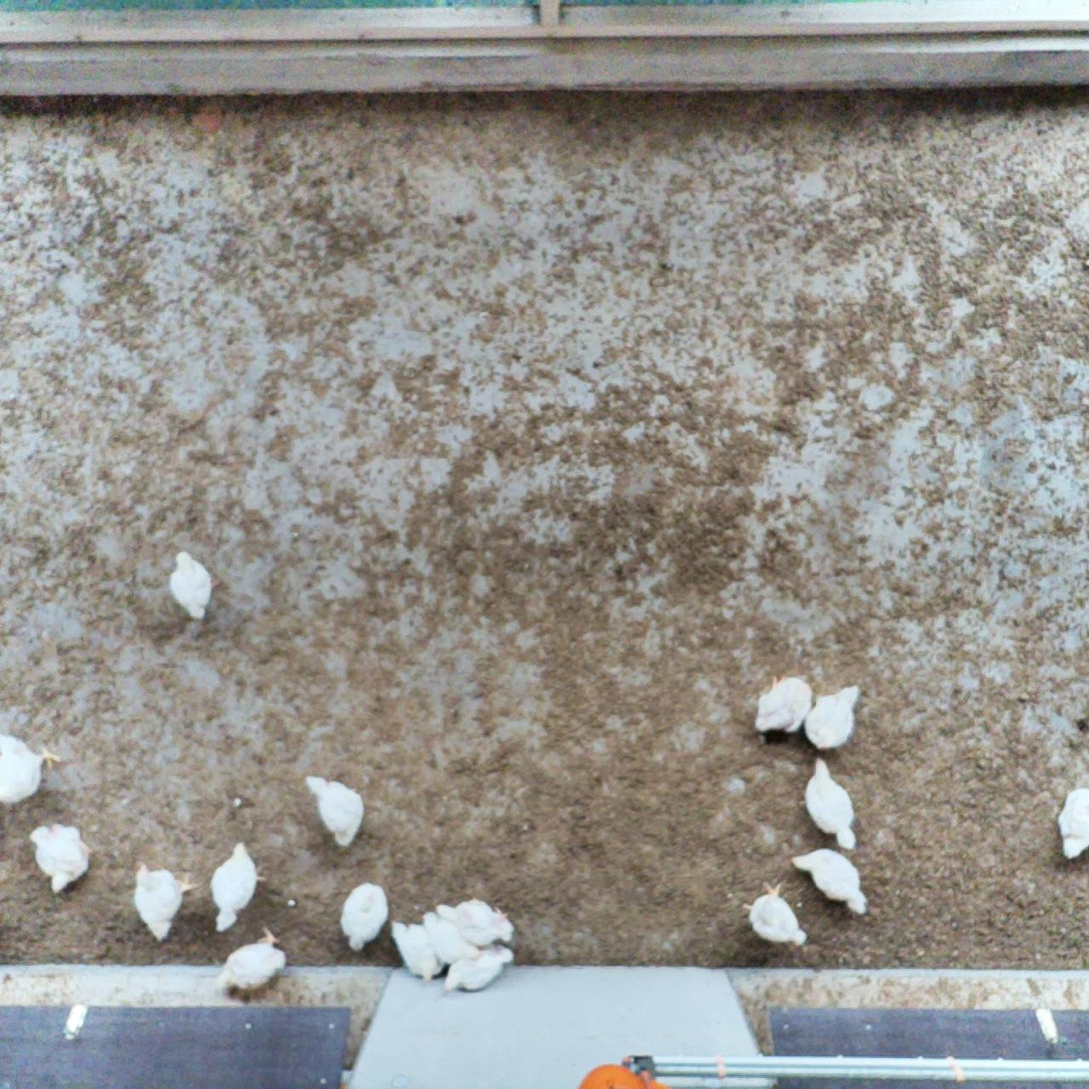chicken: (784, 843, 878, 920), (800, 753, 867, 855), (129, 857, 198, 947), (216, 923, 292, 1001), (737, 874, 810, 951), (304, 768, 369, 854), (207, 840, 266, 934), (26, 820, 97, 897), (802, 682, 874, 757), (0, 730, 64, 809), (165, 547, 224, 625), (432, 895, 517, 949), (440, 942, 516, 998), (338, 878, 394, 953), (753, 672, 815, 738), (387, 917, 446, 985), (420, 908, 483, 966), (1053, 781, 1089, 863)
